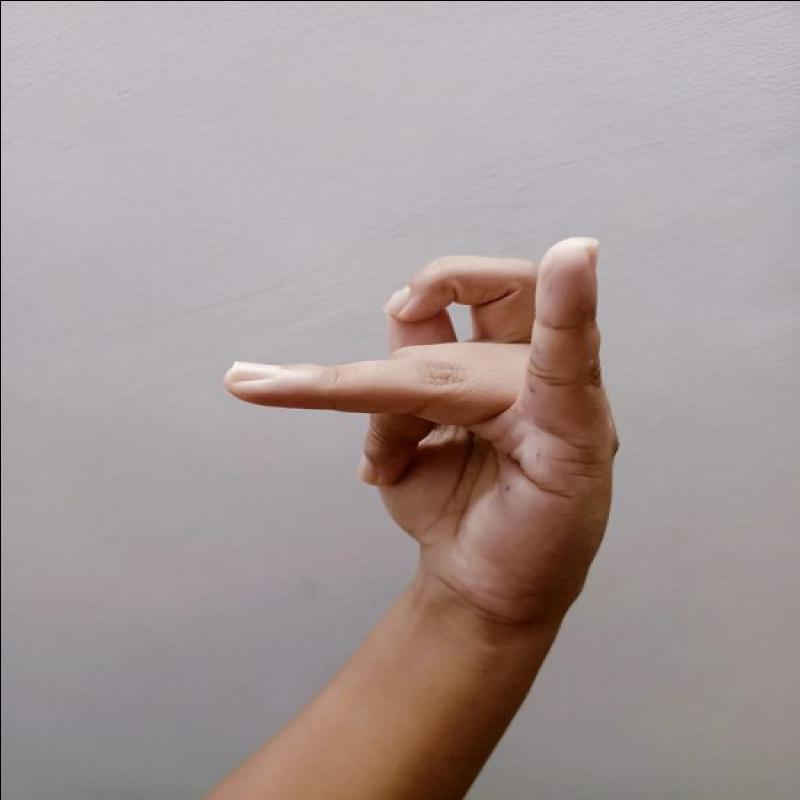Katakam: (208, 219, 635, 635)
